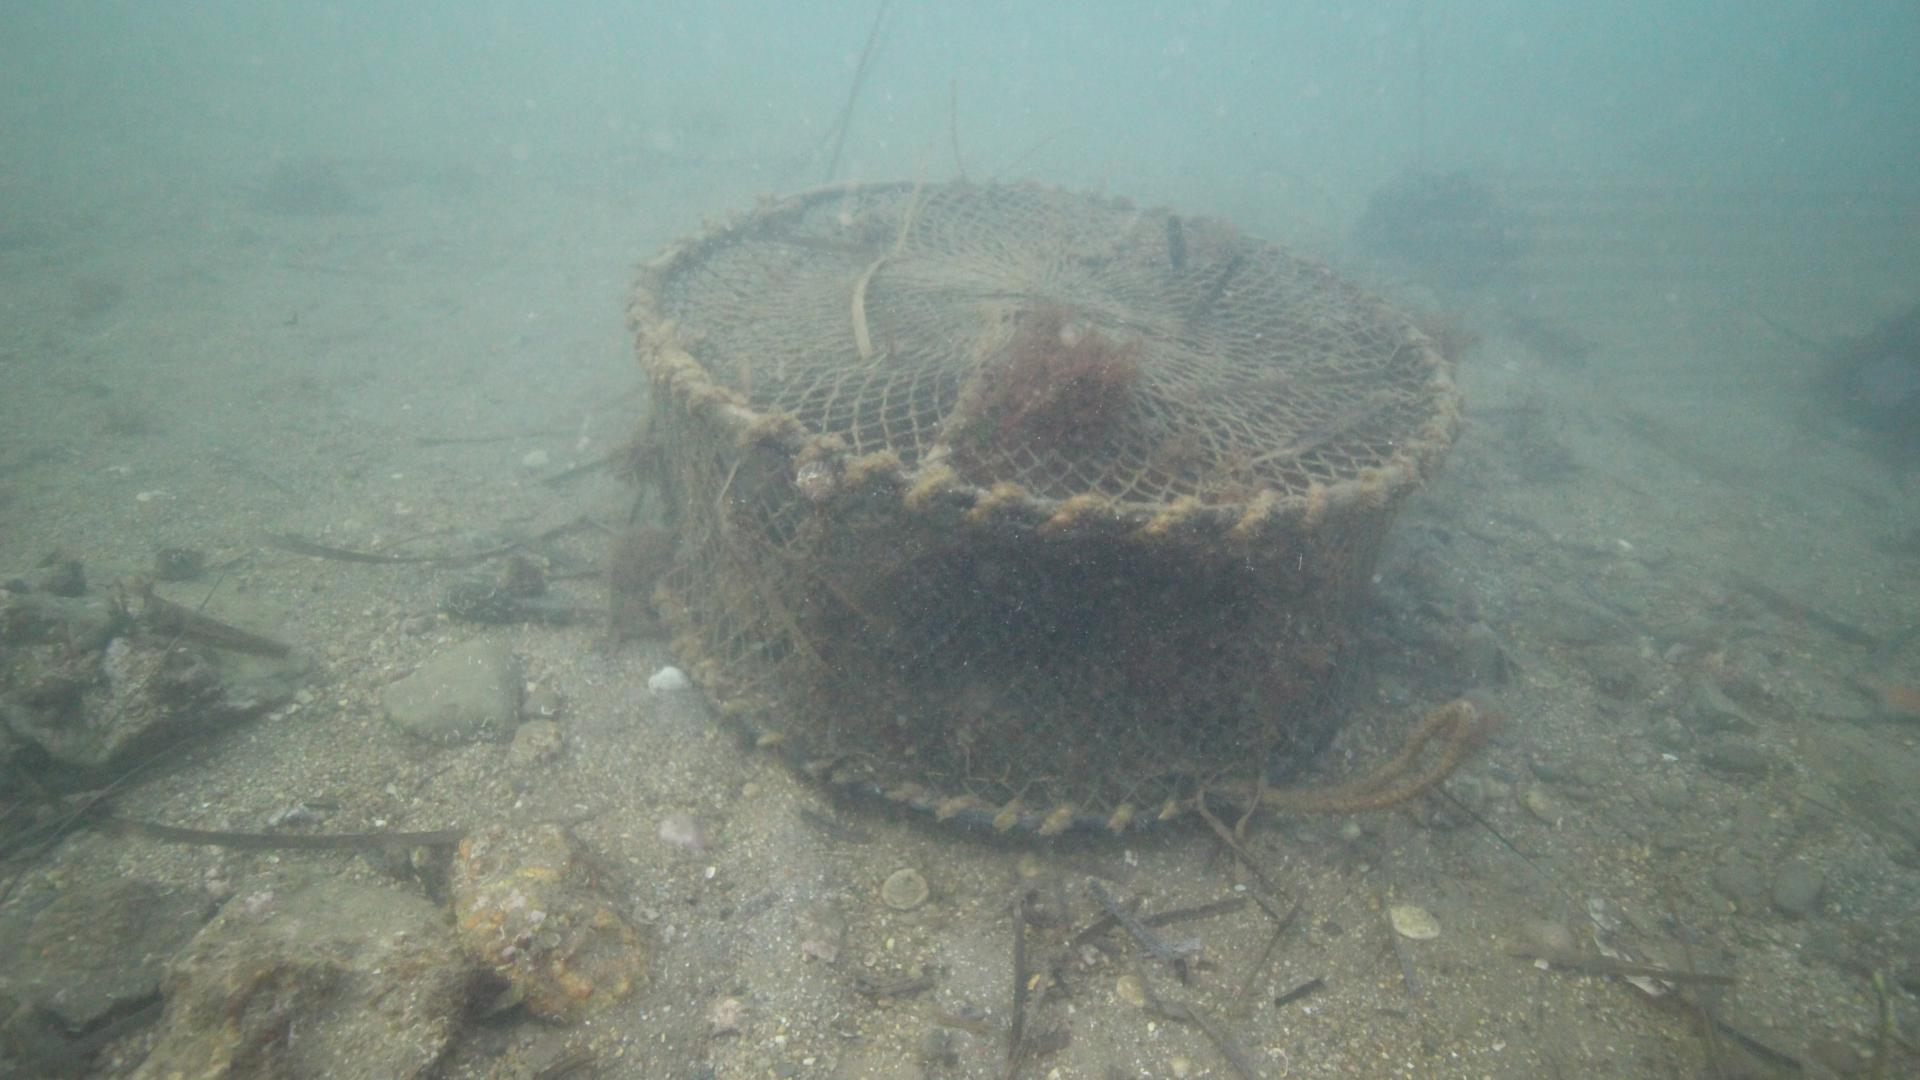circular fish trap: (622, 175, 1465, 835)
rope: (1251, 691, 1480, 815)
